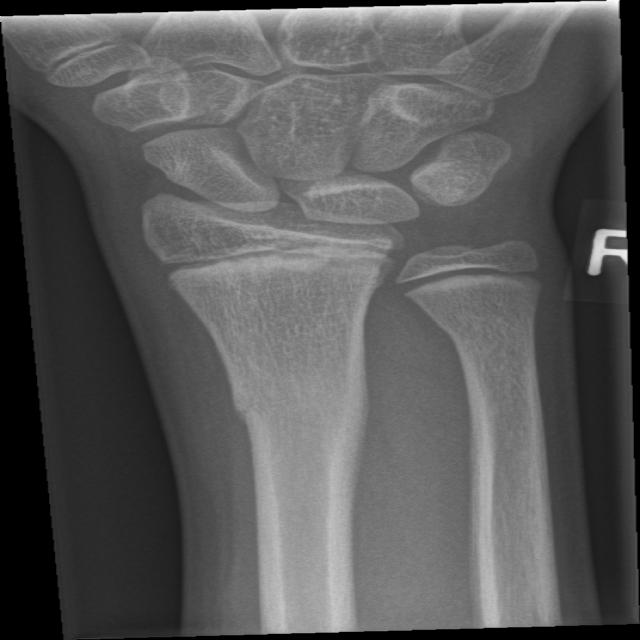radius fracture: (188, 329, 418, 514)
